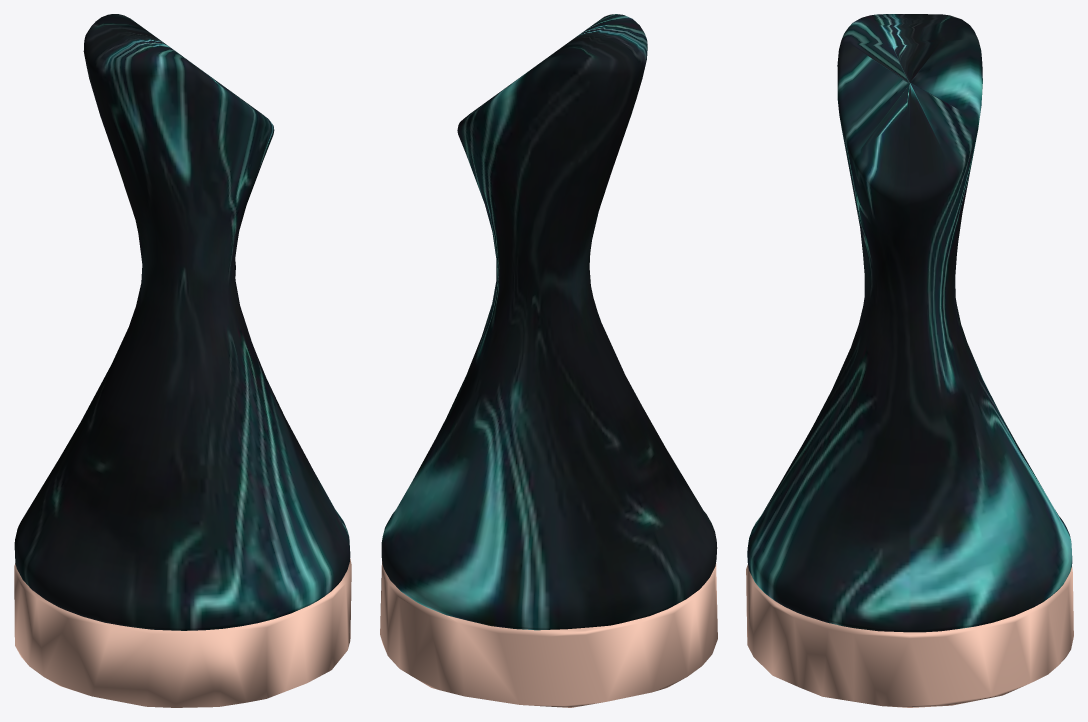
The model's file is jezdec_cerna.glb.
The picture shows the model from 3 angles, left to right: view 1: azimuth 30°, elevation 25°; view 2: azimuth 150°, elevation 25°; view 3: azimuth 270°, elevation 25°; orthographic projection. The views are drawn at different scales.
Visible parts, largest first — view 1: jezdec_cerna; view 2: jezdec_cerna; view 3: jezdec_cerna.
Part boxes in pixels (x1,y1,x2,y2): jezdec_cerna: (14, 14, 351, 707); jezdec_cerna: (380, 14, 717, 707); jezdec_cerna: (746, 14, 1073, 707).
Bounding box in the file's own units: 0.0578 × 0.1161 × 0.058.
2 materials, 1 textured.
